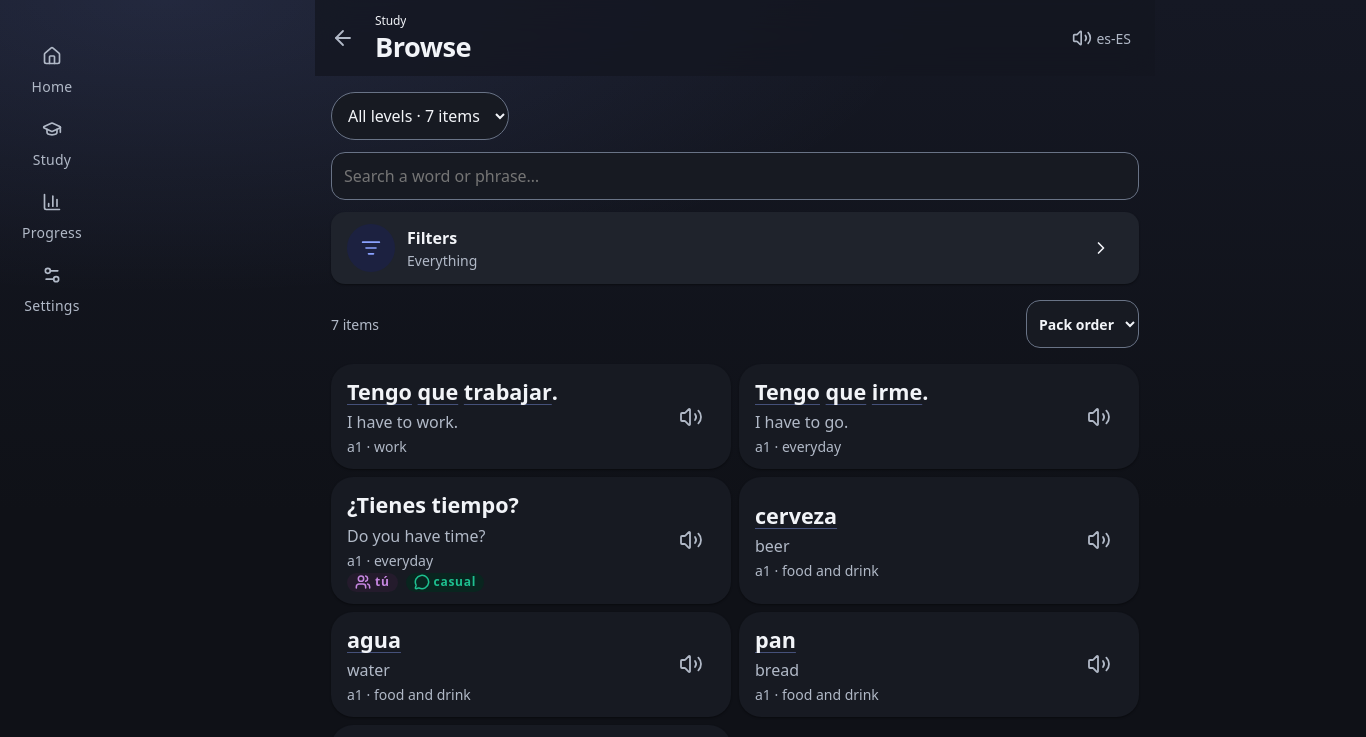
Test: browse › filters by type
Expected: the text "7 items" is shown, [331, 314, 379, 334]
Click the button with aria-label "Filters:": {"x": 371, "y": 248} [331, 212, 1139, 284]
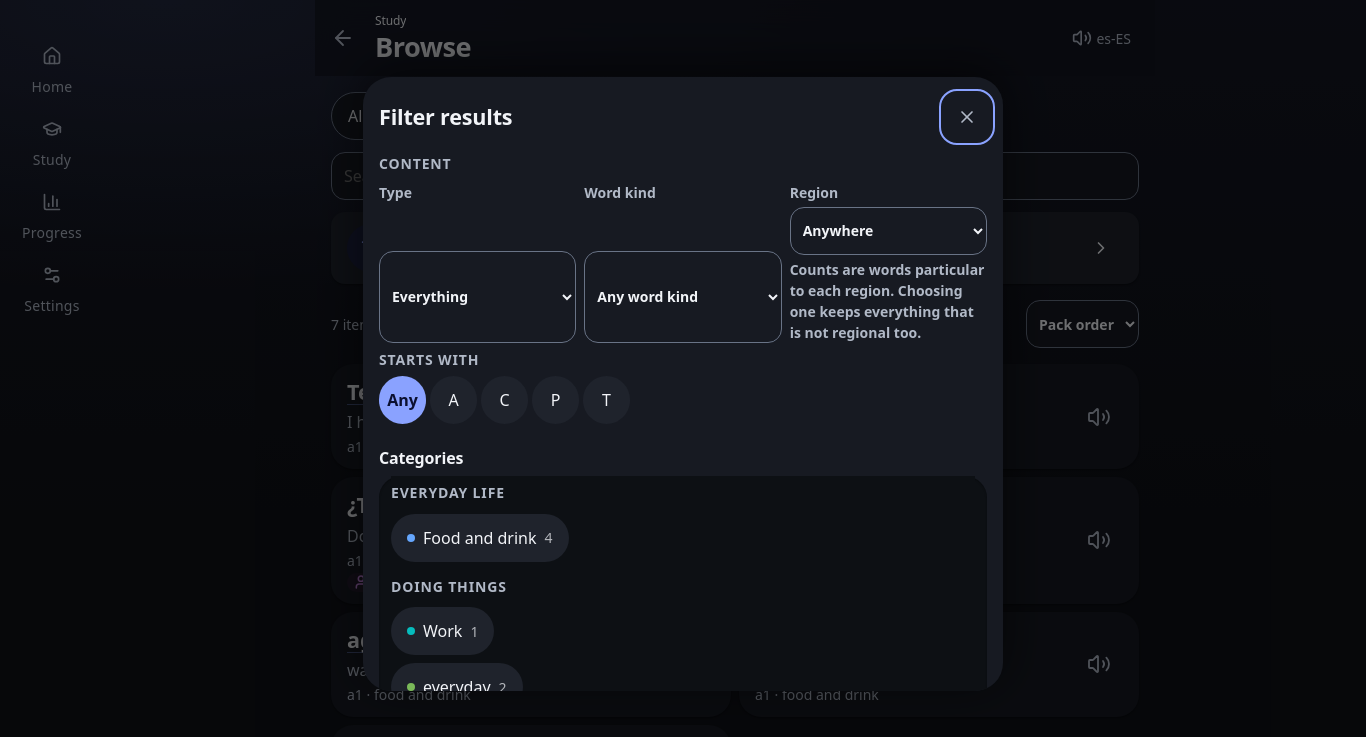
Select "Words" in the dropdown labelled "Type": {"x": 478, "y": 297} [379, 251, 576, 343]
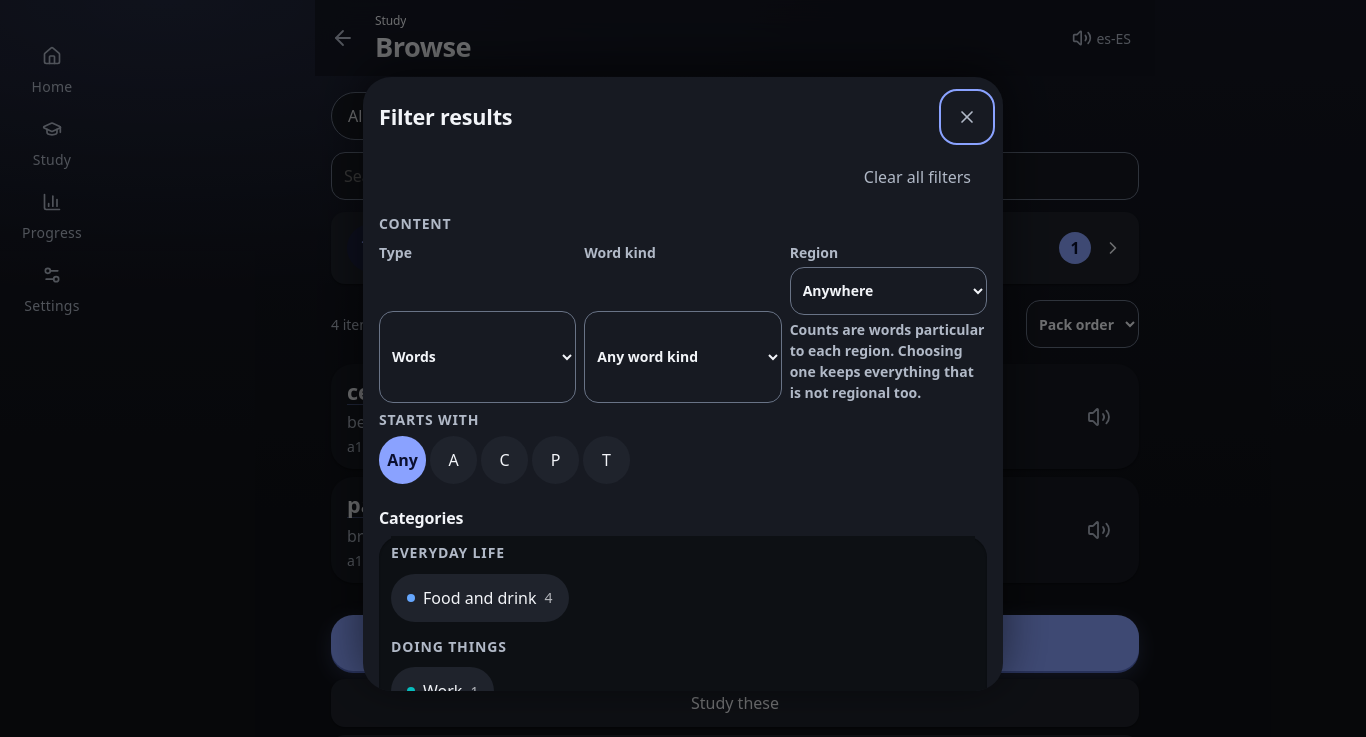
Result: the text "4 items" is shown at [331, 314, 379, 334]
